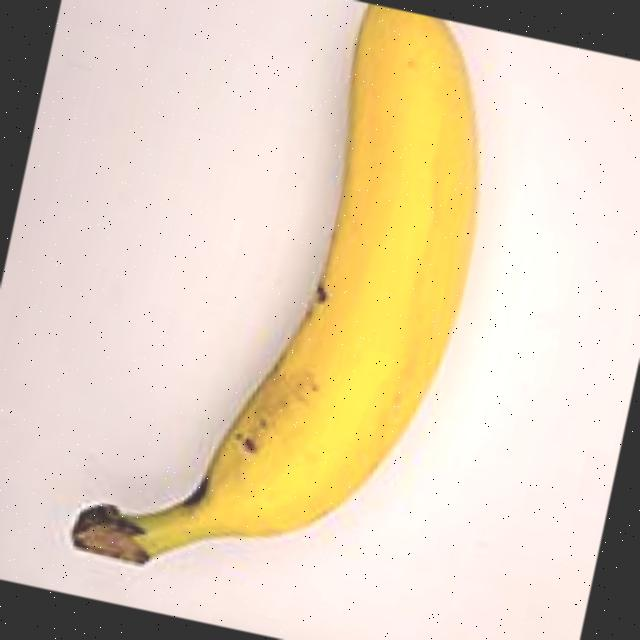Ripe: (30, 0, 549, 630)
